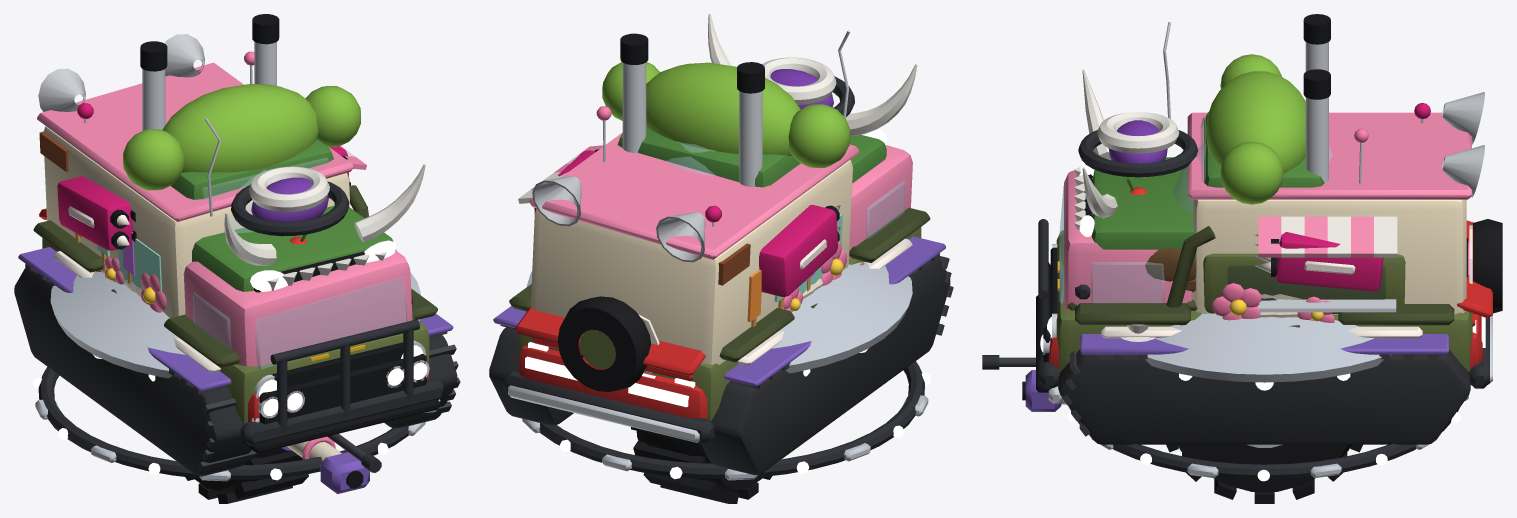
The model's file is vehicles.glb.
3 views of the same model, side by side, from view 1: azimuth 30°, elevation 25°; view 2: azimuth 150°, elevation 25°; view 3: azimuth 270°, elevation 25° (orthographic). The views are drawn at different scales.
Visible parts, largest first — view 1: truck_body, monster_body, tank_body, humvee_body, ufo_body, muscle_body, ufo_spin, jeep_body, monster_wheel, tank_gun, humvee_gun; view 2: truck_body, monster_body, tank_body, humvee_body, muscle_body, ufo_body, ufo_spin, jeep_body, monster_wheel; view 3: truck_body, tank_body, monster_body, humvee_body, ufo_body, jeep_body, ufo_spin, monster_wheel, muscle_body, rod_wheel_r, tank_gun, humvee_gun.
Boxes of the visible parts, x1,y1,x2,y2 form: truck_body: (37, 34, 440, 422); monster_body: (123, 14, 425, 304); tank_body: (14, 51, 460, 476); humvee_body: (33, 185, 443, 446); ufo_body: (50, 170, 420, 381); muscle_body: (39, 208, 440, 453); ufo_spin: (33, 367, 425, 481); jeep_body: (53, 103, 420, 372); monster_wheel: (185, 447, 308, 503); tank_gun: (282, 436, 369, 493); humvee_gun: (327, 433, 381, 472); truck_body: (518, 30, 912, 364); monster_body: (602, 14, 917, 187); tank_body: (489, 106, 953, 475); humvee_body: (503, 207, 930, 443); muscle_body: (508, 307, 707, 442); ufo_body: (527, 141, 912, 376); ufo_spin: (522, 361, 931, 480); jeep_body: (534, 149, 912, 373); monster_wheel: (631, 427, 772, 503); truck_body: (1048, 22, 1484, 403); tank_body: (1058, 128, 1470, 444); monster_body: (1074, 14, 1330, 299); humvee_body: (1038, 219, 1502, 388); ufo_body: (1145, 143, 1391, 390); jeep_body: (1101, 103, 1472, 338); ufo_spin: (1063, 395, 1468, 481); monster_wheel: (1166, 444, 1362, 503); muscle_body: (1036, 220, 1492, 392); rod_wheel_r: (1221, 444, 1307, 462); tank_gun: (1022, 370, 1066, 411); humvee_gun: (982, 355, 1035, 369).
Size of the model in its own units: 3.92 by 4.62 by 4.94.
